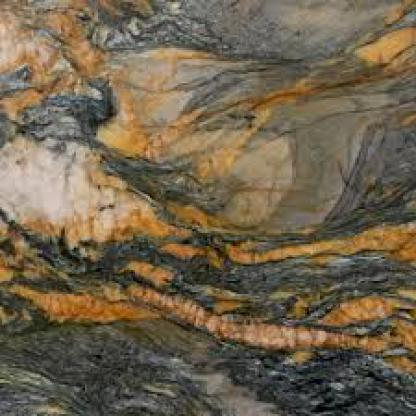Metamorphic_Quartize: (4, 4, 414, 414)
